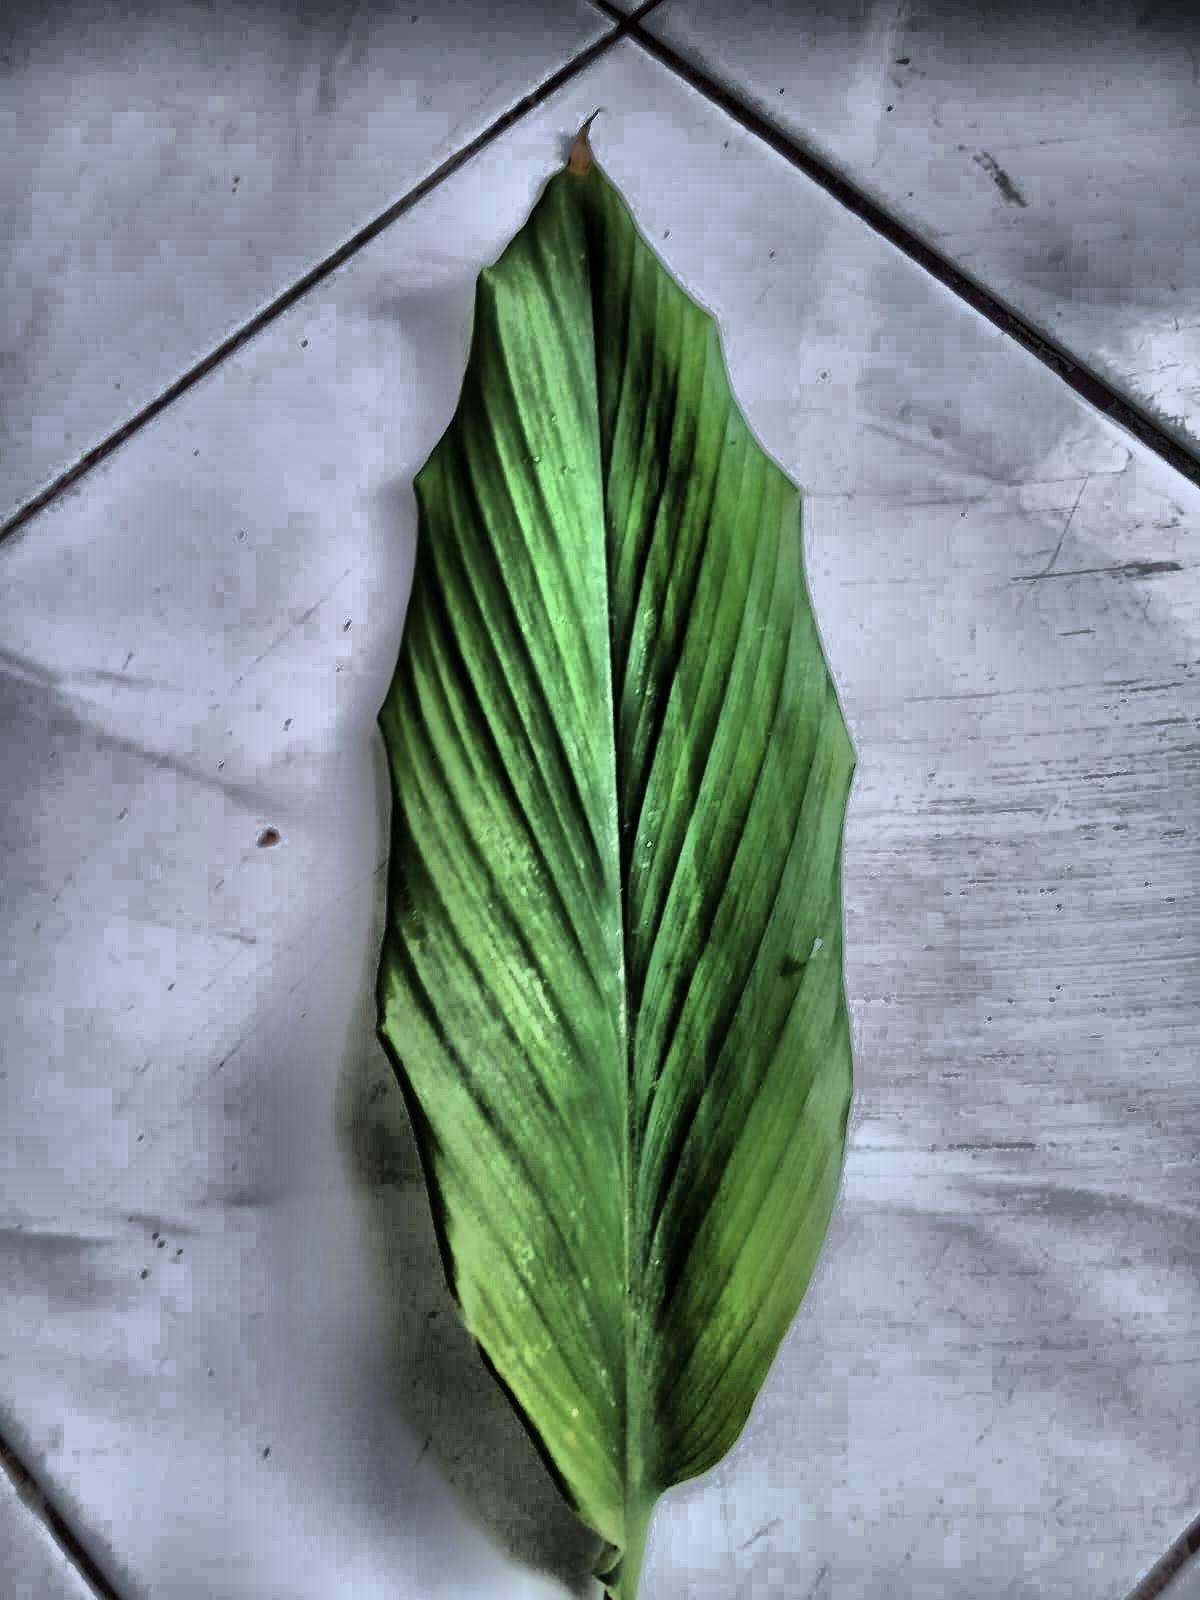daun kunyit: (377, 136, 855, 1599)
